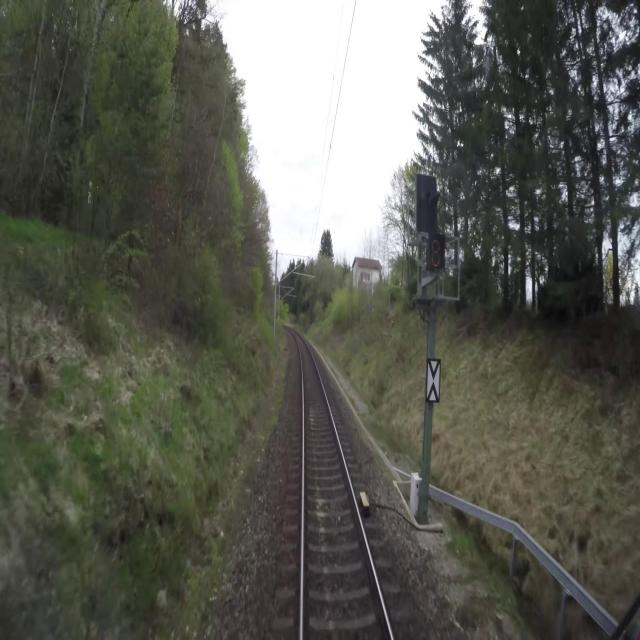rail-track: (296, 335, 390, 639)
